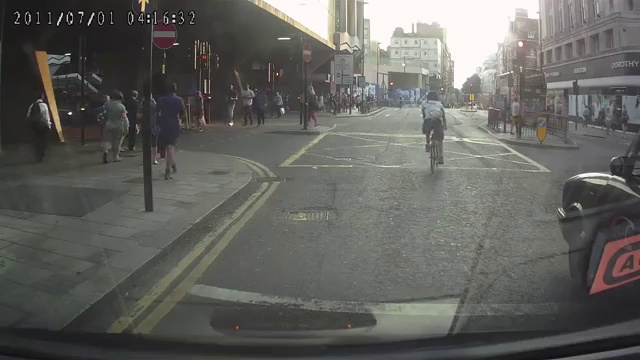cyclist_back: (417, 88, 452, 176)
